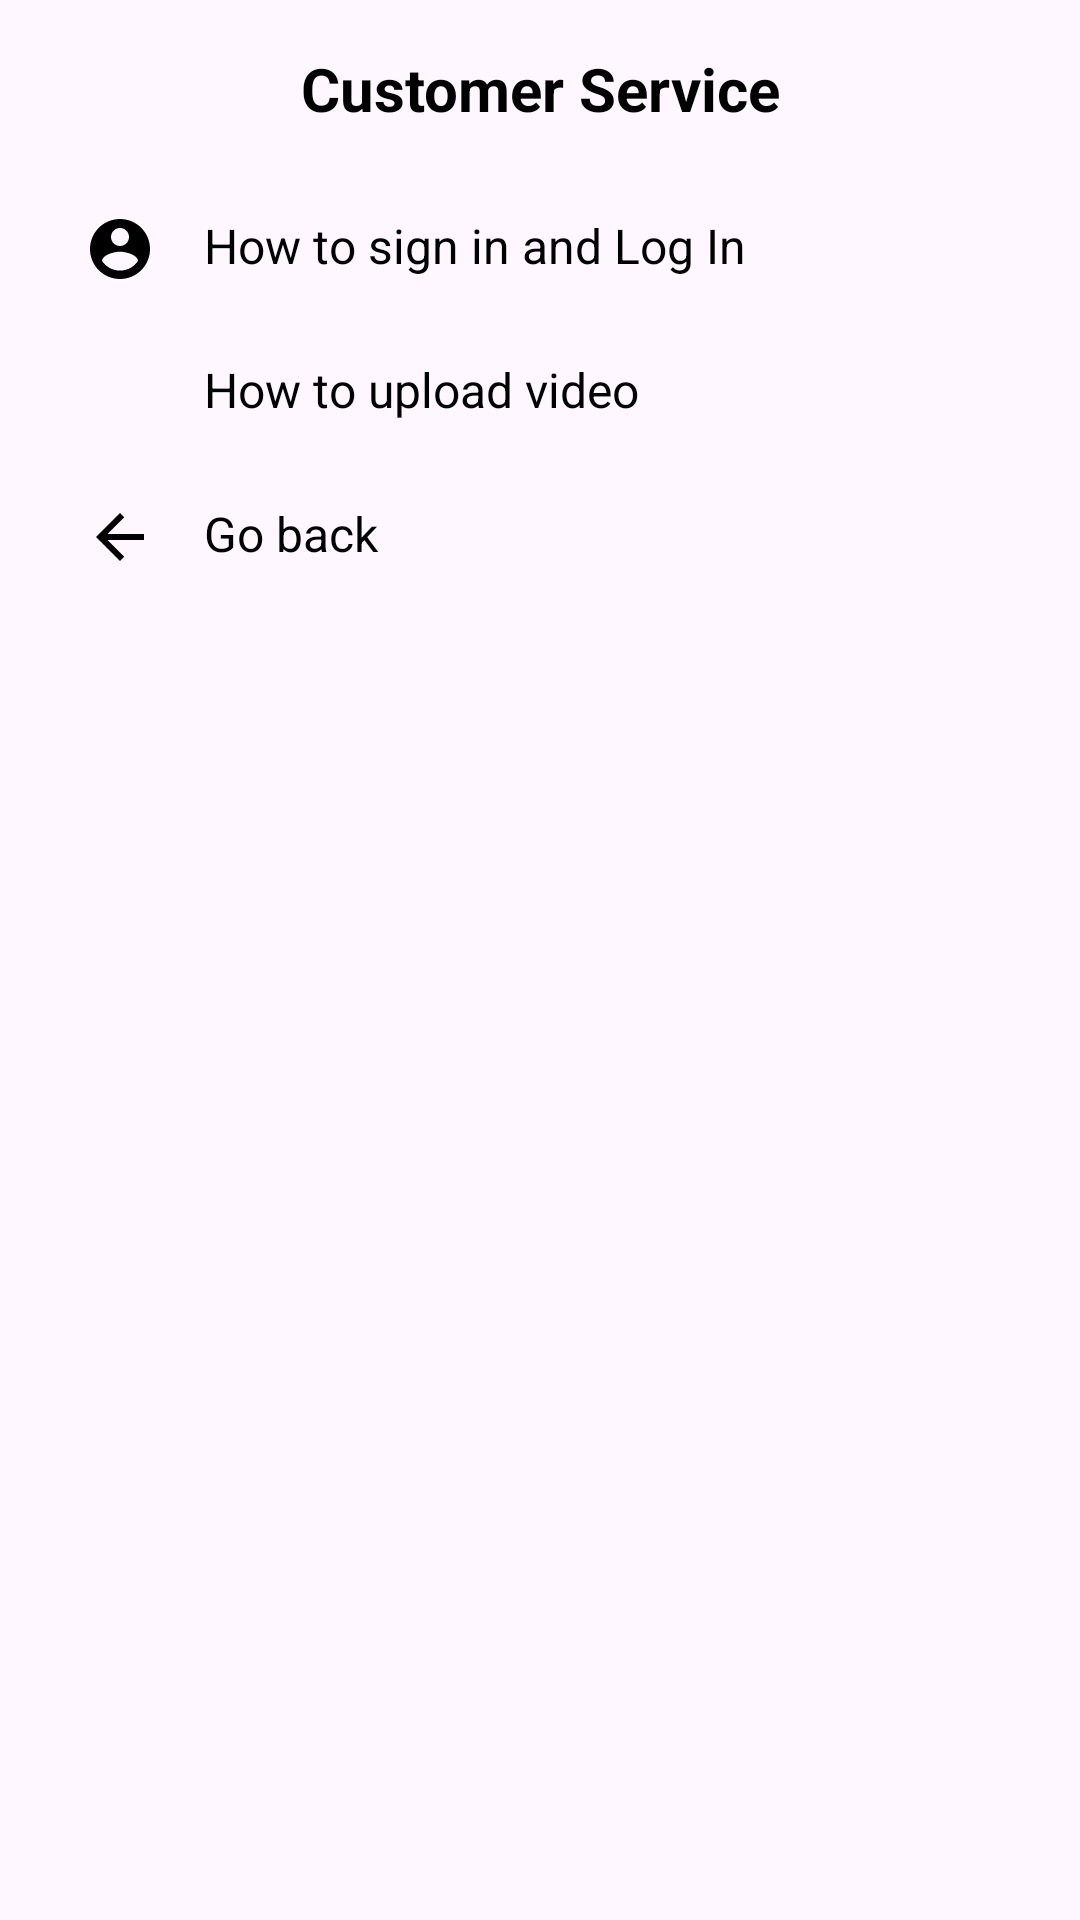

Screen size 1080px x 1920px. Icon name, then its center in pixels as [x,y]:
account circle: [120,249]
arrow back: [120,537]
